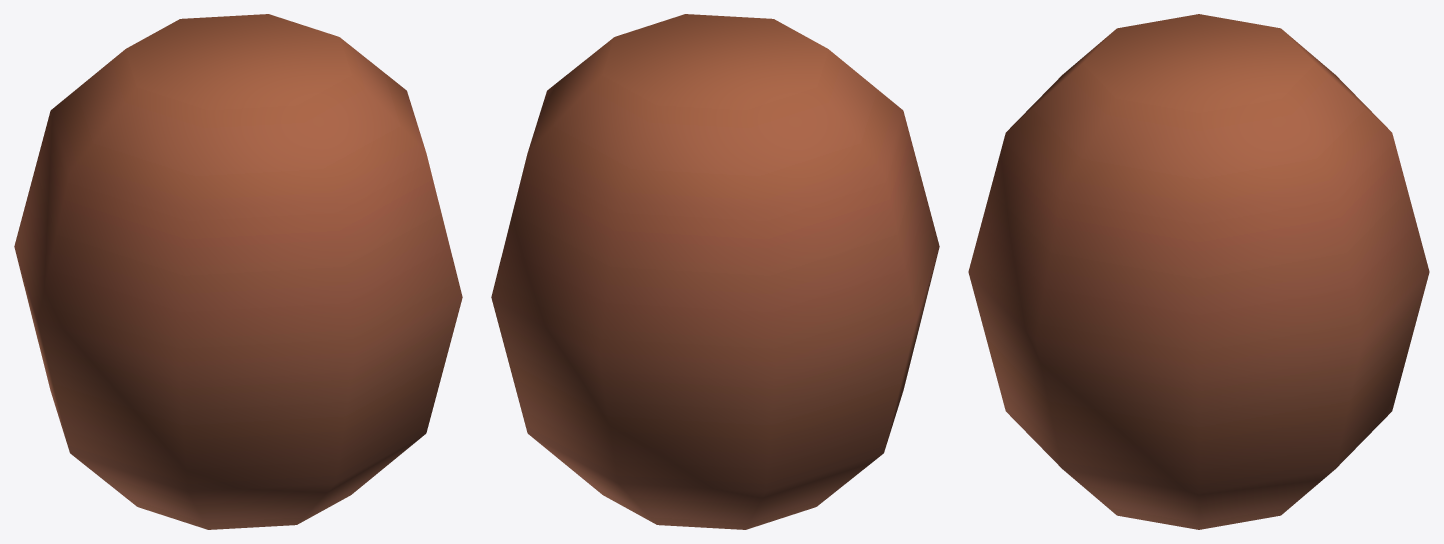
Rendered from kenney-food-coconut.glb.
3 views of the same model, side by side, from view 1: azimuth 30°, elevation 25°; view 2: azimuth 150°, elevation 25°; view 3: azimuth 270°, elevation 25° (orthographic).
Parts seen in each view (by area): view 1: coconut; view 2: coconut; view 3: coconut.
Boxes of the visible parts, x1=… form: coconut: x1=14, y1=14, x2=462, y2=529; coconut: x1=491, y1=14, x2=939, y2=529; coconut: x1=968, y1=14, x2=1429, y2=529.
Bounding box in the file's own units: 0.2484 × 0.2484 × 0.2484.
Materials: 1 (1 with a texture image).
